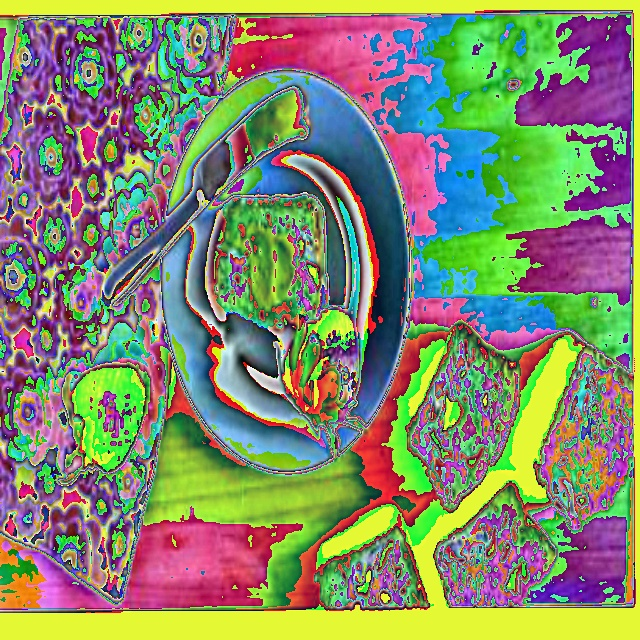background: (122, 203, 633, 534), (120, 106, 430, 606), (156, 289, 557, 606), (160, 192, 369, 464), (55, 125, 146, 486), (71, 75, 312, 161)
